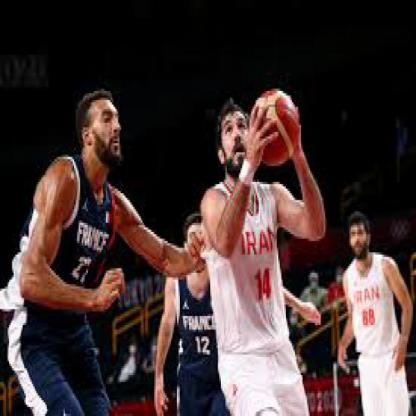basketball: (250, 89, 300, 168)
